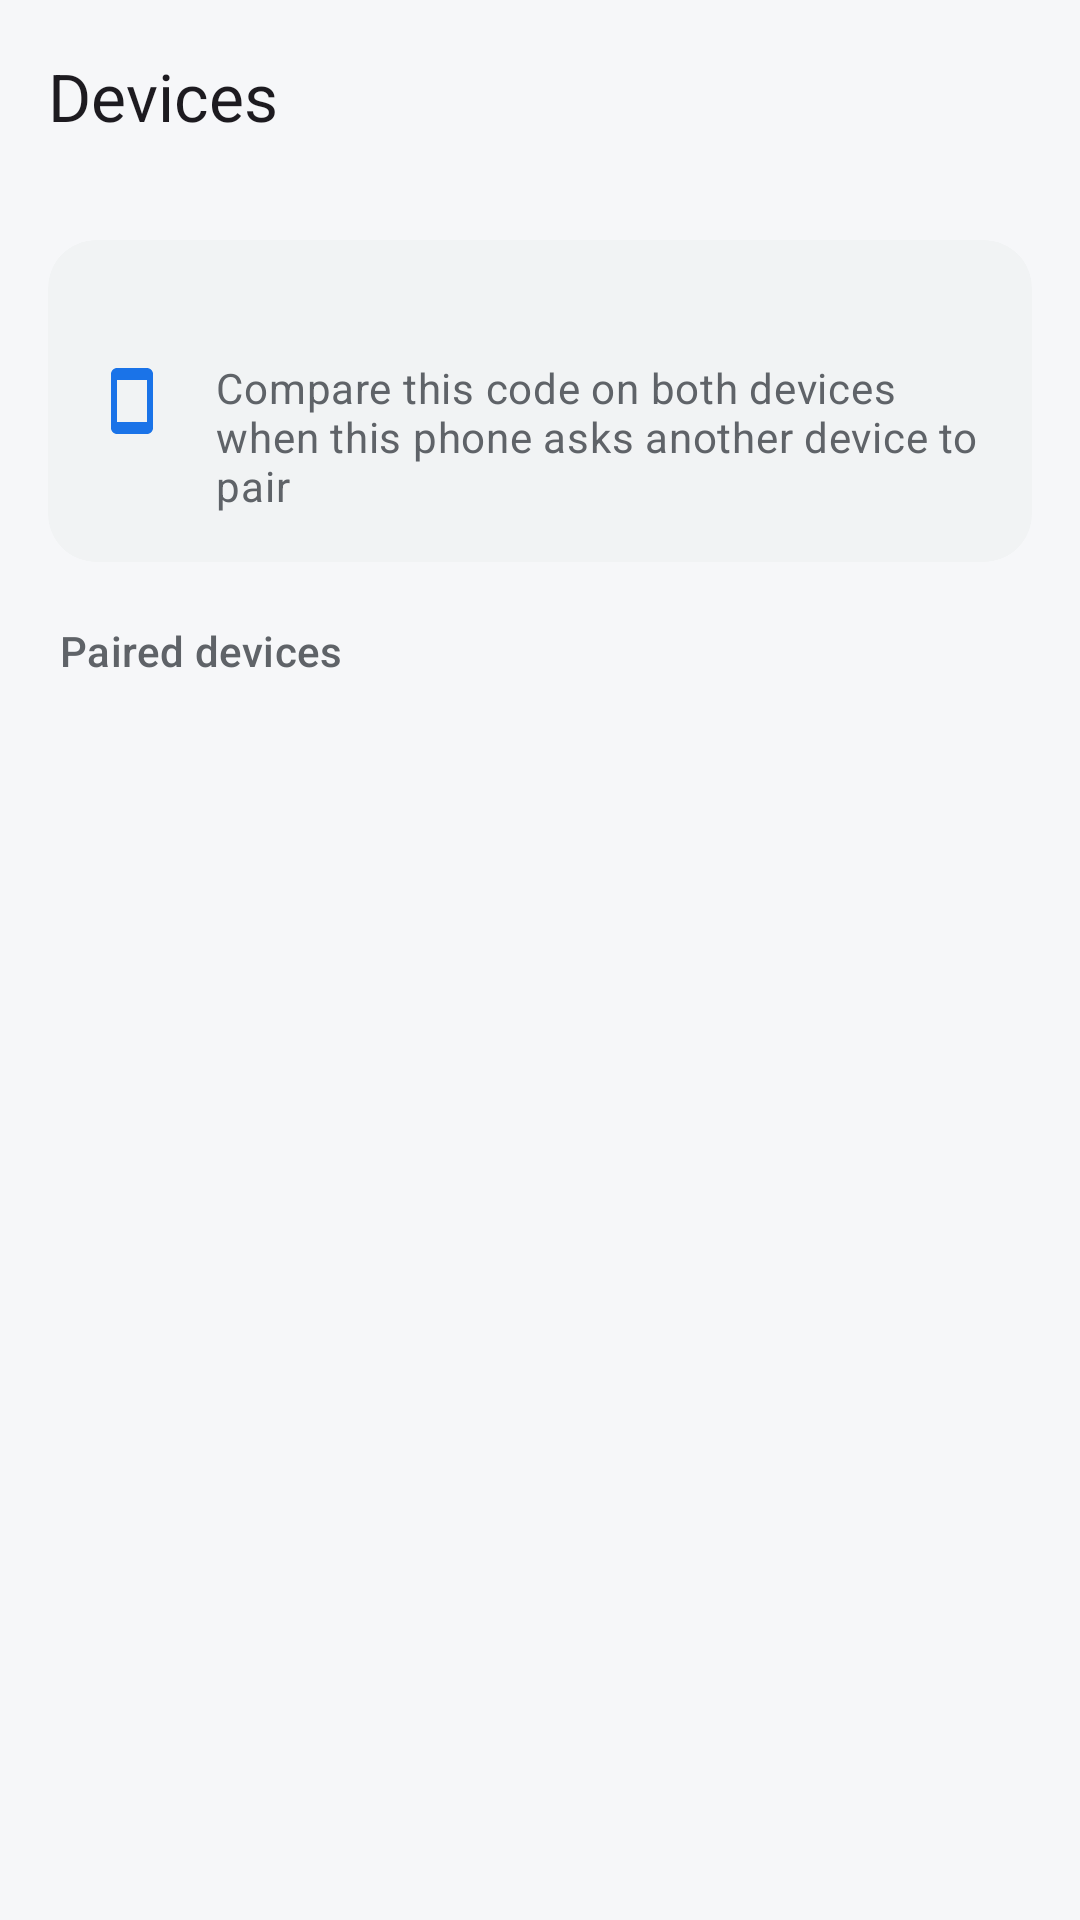

Icons on this 1080px×1920px Android screen, each with its box as box=[x1, y1, x2, y2]:
smartphone: box=[111, 368, 153, 434]
